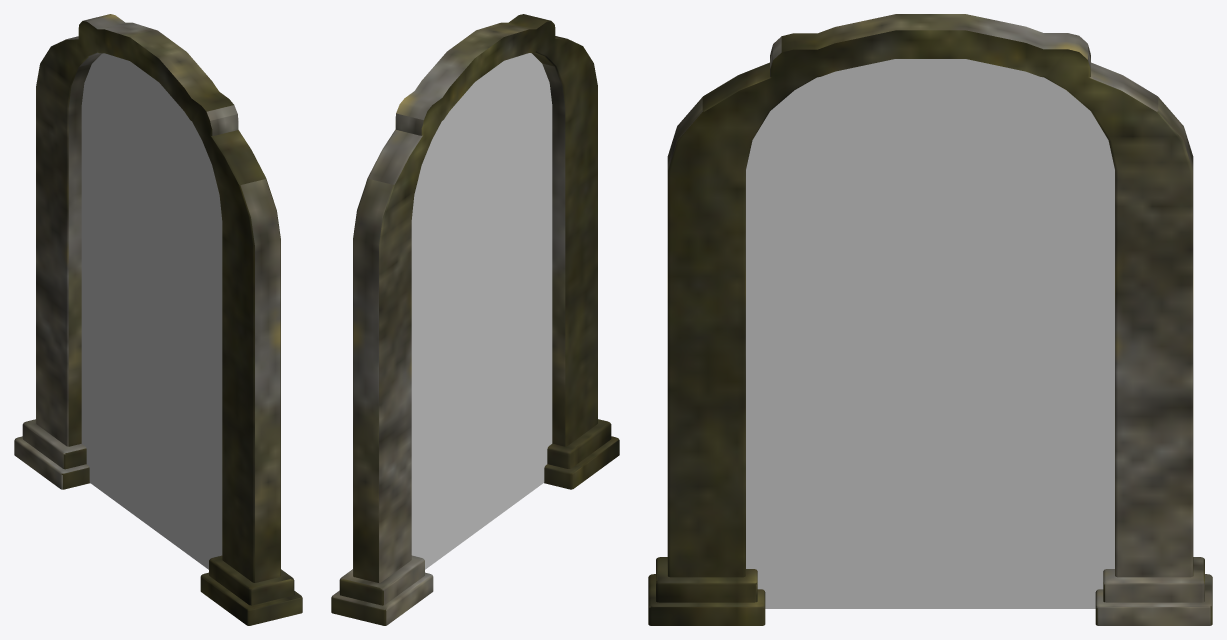
Rendered from ProgGate.fbx.
The picture shows the model from 3 angles, left to right: view 1: azimuth 30°, elevation 25°; view 2: azimuth 150°, elevation 25°; view 3: azimuth 270°, elevation 25°; orthographic projection. The views are drawn at different scales.
Visible parts, largest first — view 1: Lvl3FX.001, Lvl3Gate.001; view 2: Lvl3FX.001, Lvl3Gate.001; view 3: Lvl3FX.001, Lvl3Gate.001.
Part boxes in pixels (x1,y1,x2,y2): Lvl3FX.001: (81,53,222,569); Lvl3Gate.001: (14,14,302,625); Lvl3FX.001: (411,53,552,569); Lvl3Gate.001: (331,14,619,625); Lvl3FX.001: (746,59,1114,608); Lvl3Gate.001: (648,14,1212,625).
Bounding box in the file's own units: 23.14 × 194 × 169.
